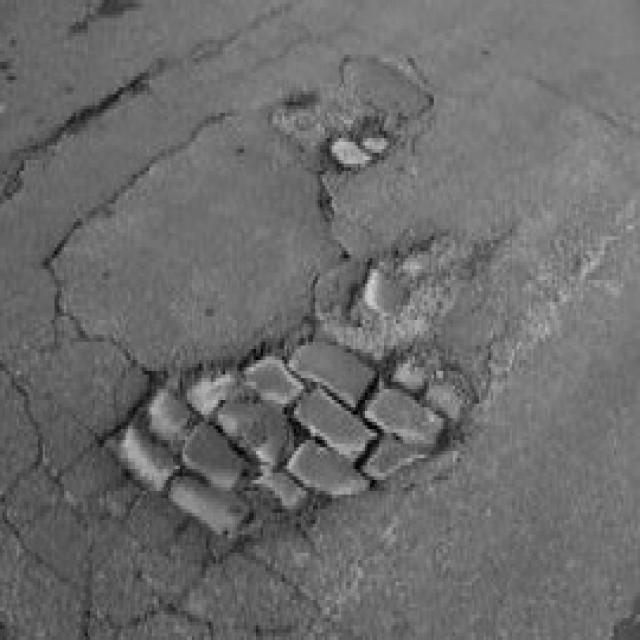Pothole: (112, 238, 469, 543), (324, 109, 408, 171)
